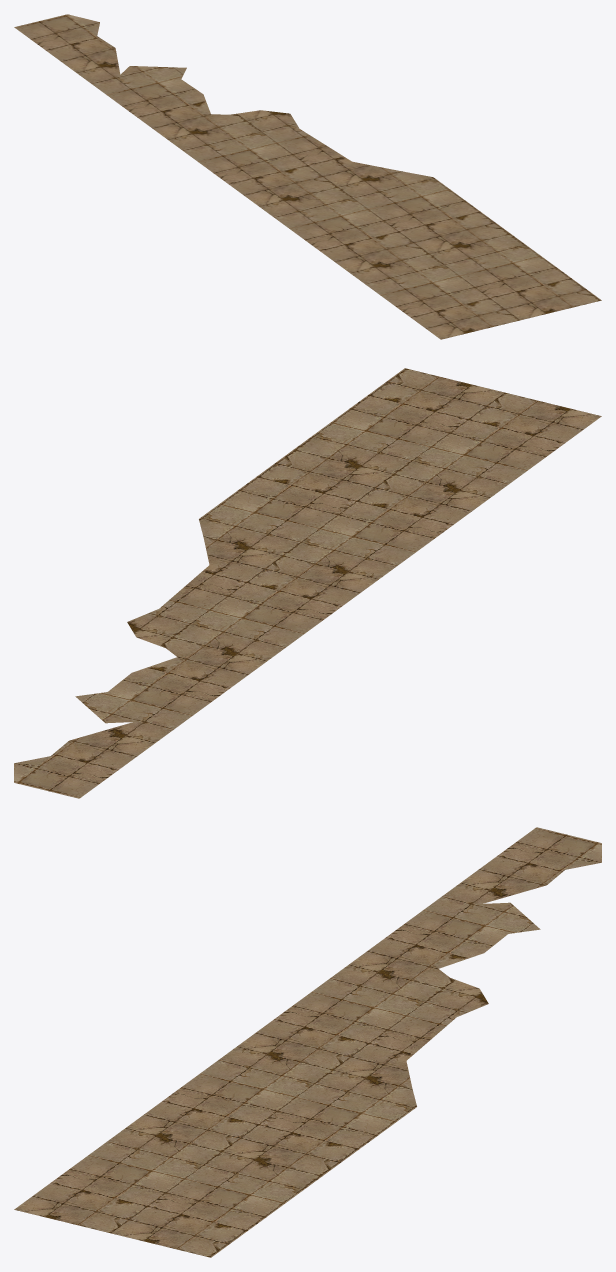
File: Ground04_Terrain_LostTemple_003.FBX
3 views of the same model, one above another, from view 1: azimuth 30°, elevation 25°; view 2: azimuth 150°, elevation 25°; view 3: azimuth 330°, elevation 25° (orthographic). The views are drawn at different scales.
Visible parts, largest first — view 1: Ground04_Terrain_LostTemple_003; view 2: Ground04_Terrain_LostTemple_003; view 3: Ground04_Terrain_LostTemple_003.
Boxes of the visible parts, bbox=[...] form: Ground04_Terrain_LostTemple_003: bbox=[14, 14, 601, 339]; Ground04_Terrain_LostTemple_003: bbox=[14, 368, 601, 798]; Ground04_Terrain_LostTemple_003: bbox=[14, 827, 601, 1257].
Bounding box in the file's own units: 590 × 0.000118 × 2711.
1 material, 1 textured.
